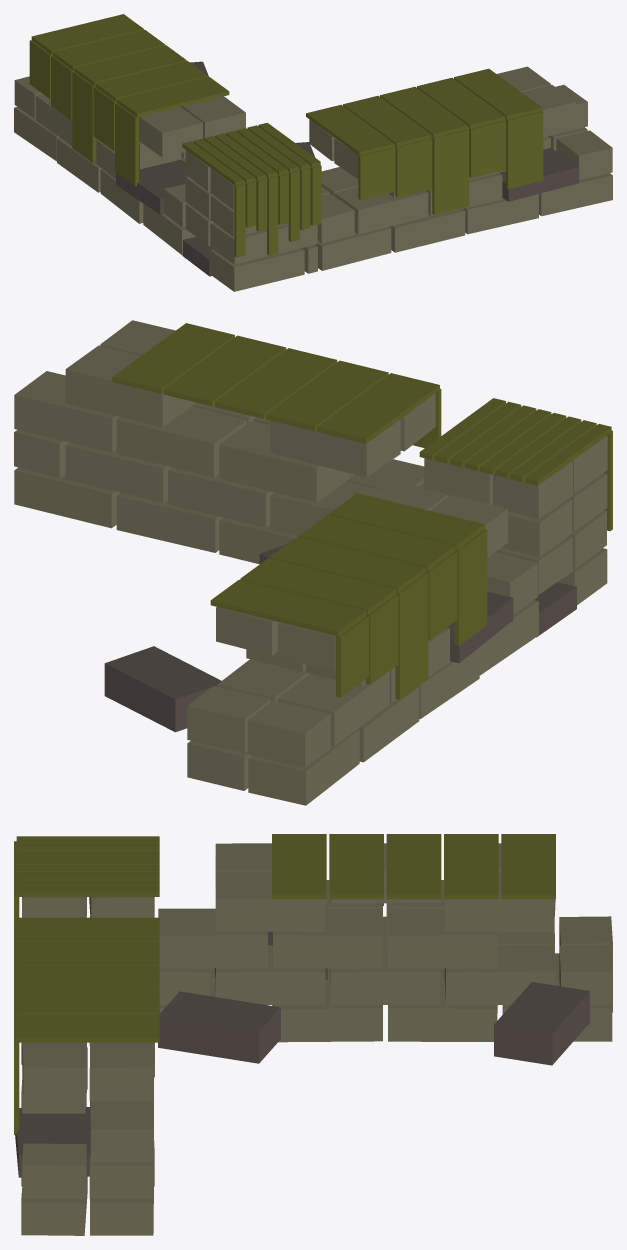
File: SM_PretilEsquina_v4_Red_e1_Danado_LOD0.fbx
The picture shows the model from 3 angles, top to bottom: view 1: azimuth 30°, elevation 25°; view 2: azimuth 150°, elevation 25°; view 3: azimuth 270°, elevation 25°; orthographic projection. The views are drawn at different scales.
Parts seen in each view (by area): view 1: SM_pretil_azotea_v37_LOD0; view 2: SM_pretil_azotea_v37_LOD0; view 3: SM_pretil_azotea_v37_LOD0.
Boxes of the visible parts, bbox=[...] form: SM_pretil_azotea_v37_LOD0: bbox=[14, 14, 612, 291]; SM_pretil_azotea_v37_LOD0: bbox=[14, 320, 612, 805]; SM_pretil_azotea_v37_LOD0: bbox=[14, 834, 612, 1235].
Bounding box in the file's own units: 4.44 × 1.24 × 4.44.
